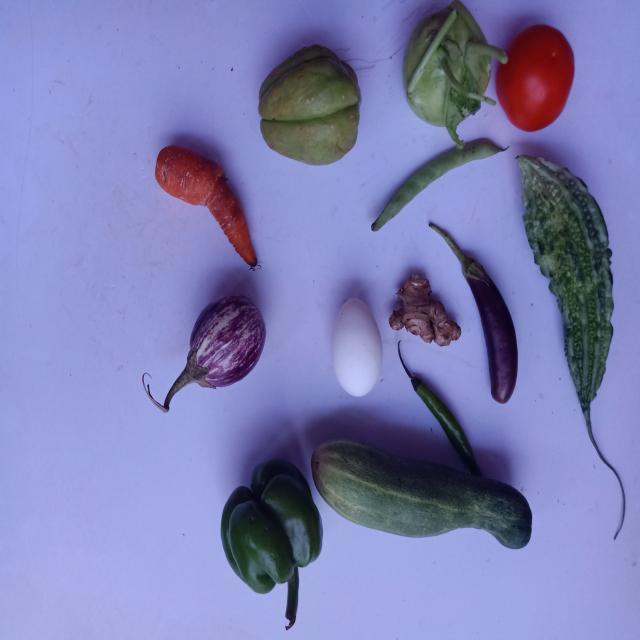Beans: (372, 138, 504, 231)
Bitter Gourd: (518, 155, 626, 538)
Brinjal: (429, 222, 518, 403), (430, 223, 518, 403)
Capsicum: (221, 460, 323, 630)
Carrot: (155, 145, 256, 267)
Chayote: (258, 43, 362, 164)
Cucumber: (311, 440, 533, 549)
Egg: (332, 298, 383, 397)
Eggplant: (145, 295, 265, 412)
Ginger: (389, 275, 462, 346)
Green Chilly: (398, 341, 483, 477)
Tomato: (497, 23, 576, 130)
Turnip: (404, 0, 508, 148)
